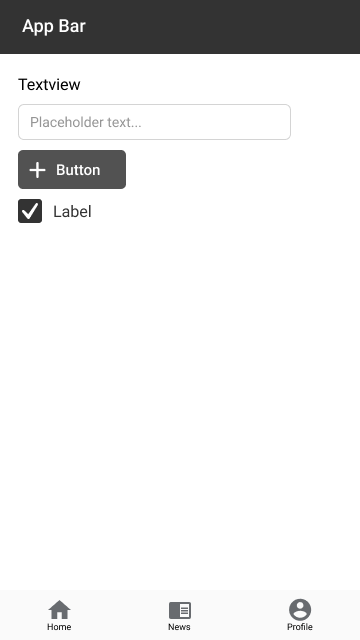buttonImage: (18, 148, 129, 191)
checkBox: (16, 197, 97, 225)
editText: (18, 102, 293, 144)
navigationButton: (1, 587, 360, 640)
textView: (16, 76, 84, 94)
toolbar: (1, 1, 359, 54)
